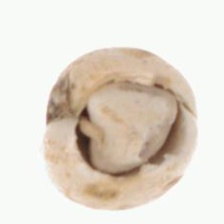L3: (72, 74, 187, 179)
L4: (44, 47, 199, 211)
